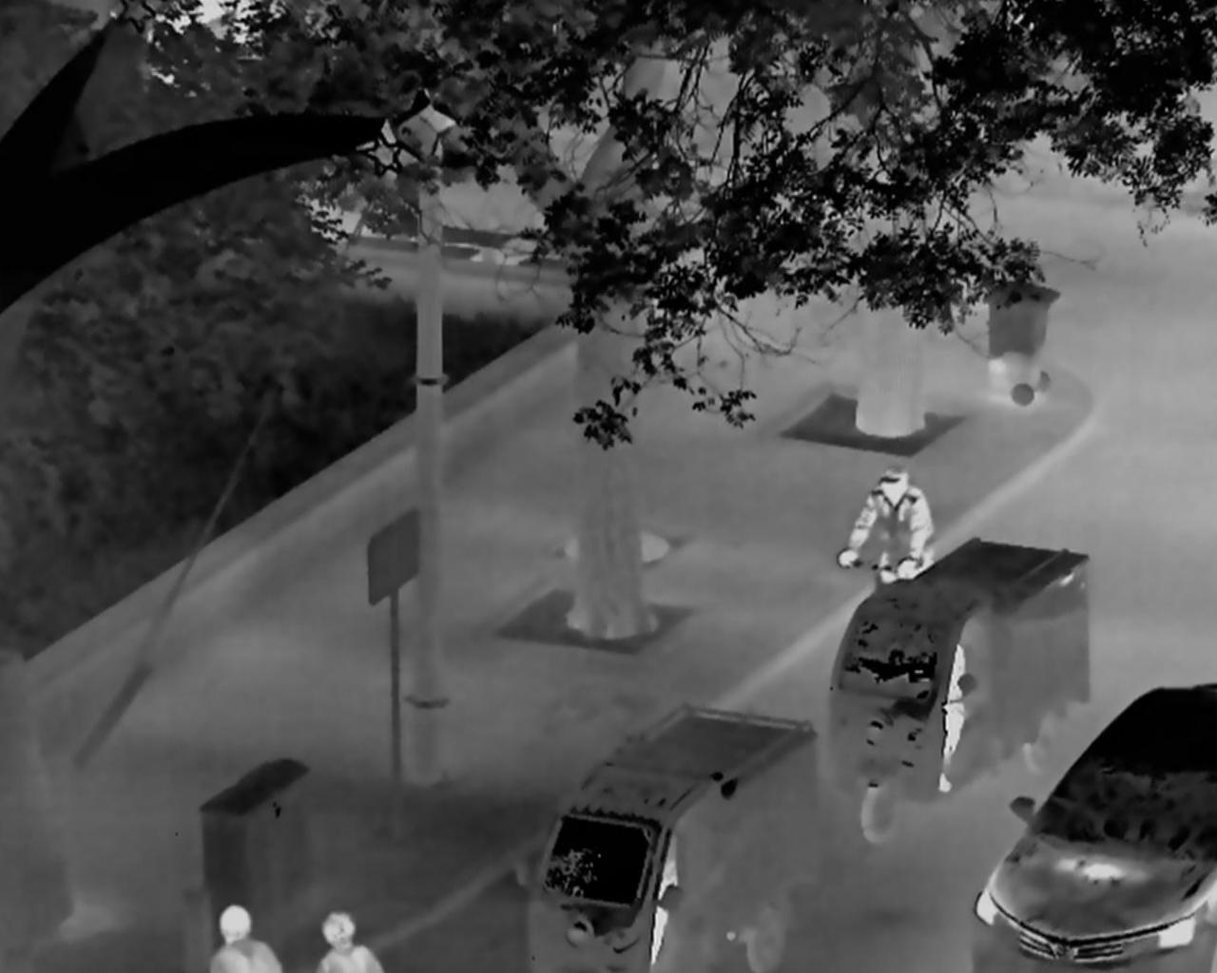person: (836, 462, 937, 583), (208, 904, 283, 973), (937, 641, 969, 793), (642, 831, 678, 965), (312, 908, 385, 973)
